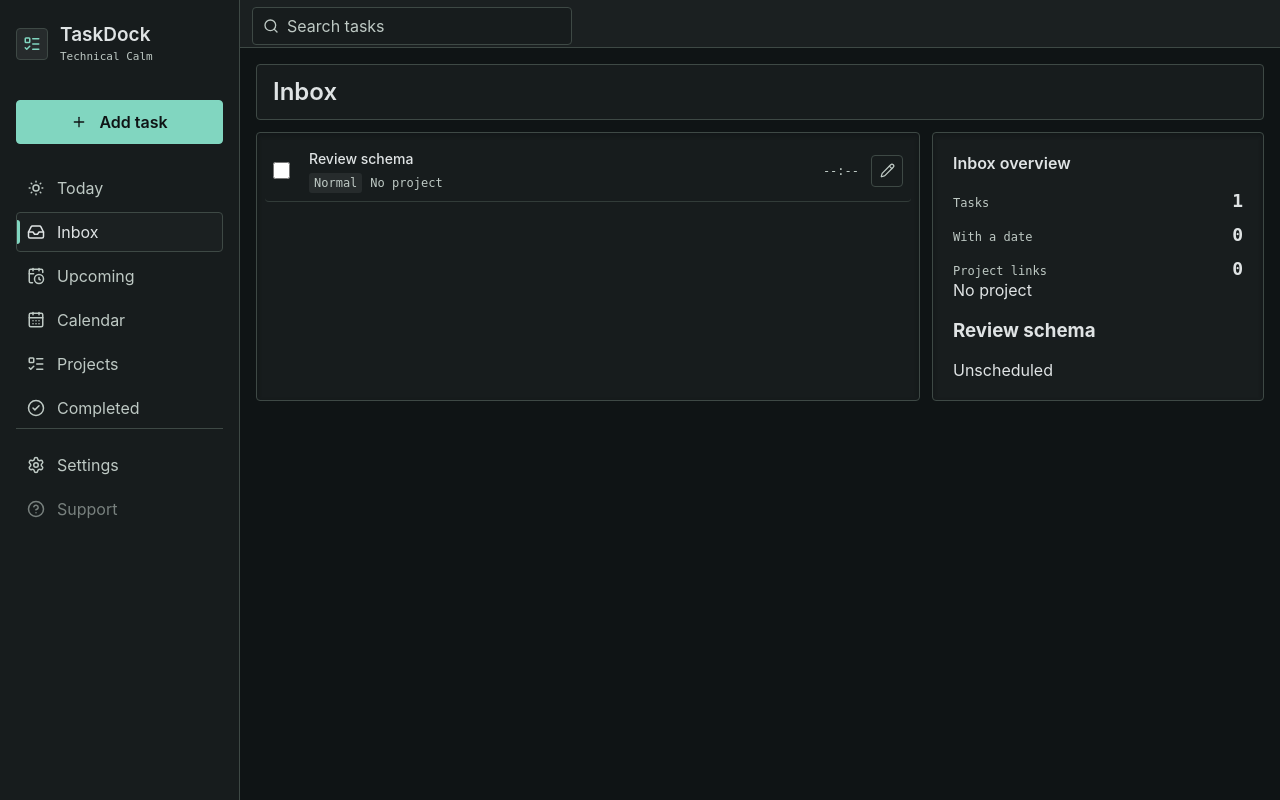
Test: edits an existing task and renders the refreshed result
The image size is (1280, 800).
Click the button named "Edit task Review schema" at {"x": 887, "y": 171}, box [871,155,903,187]
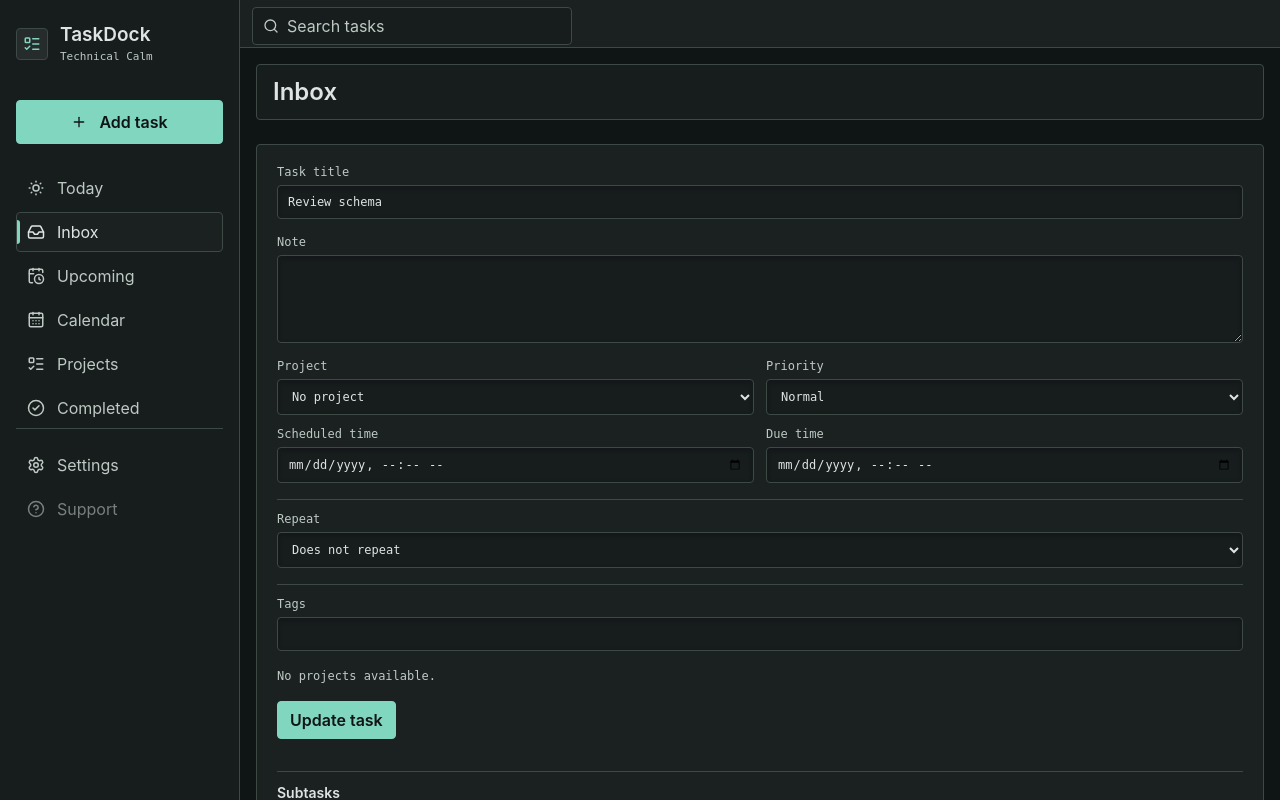
Replace the text in the field labelled "Task title" with "Review release" at {"x": 760, "y": 202}, box [277,185,1243,219]
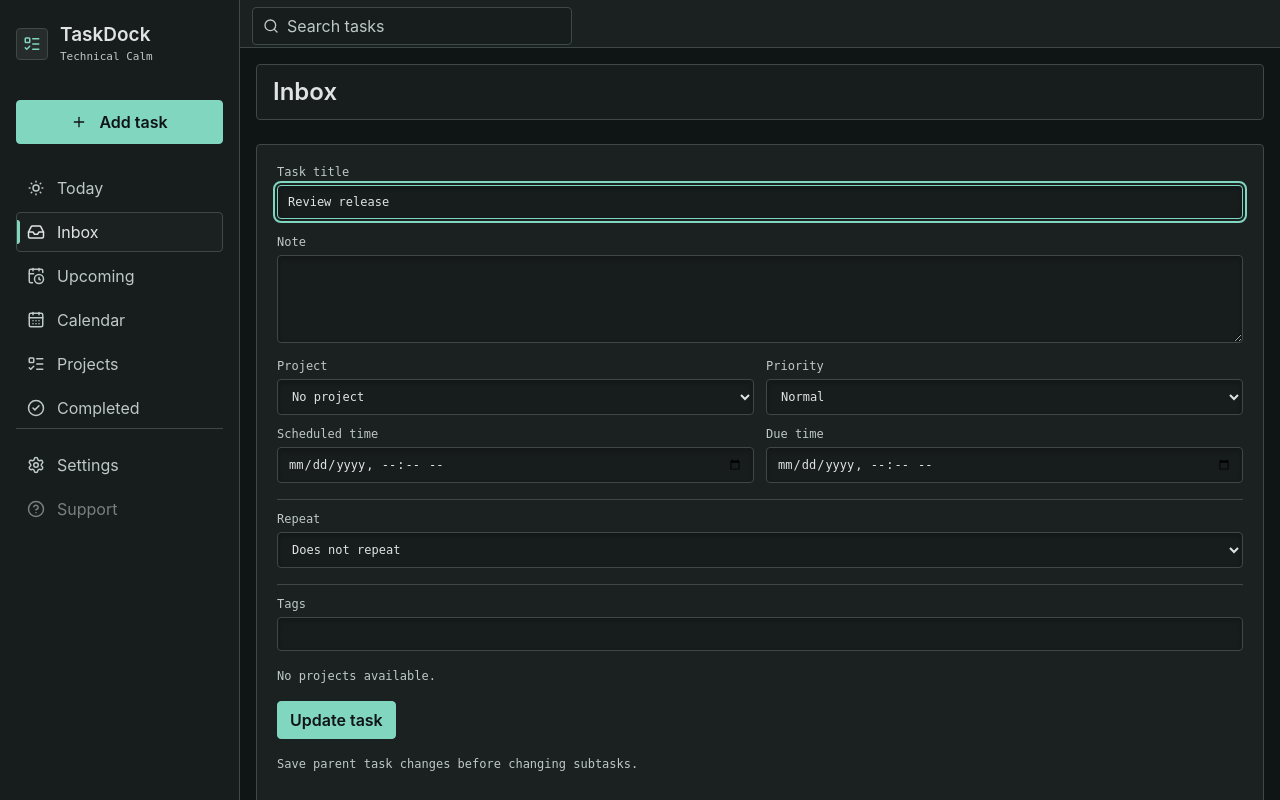
Type "Add migration result" into the text box labelled "Note" at {"x": 760, "y": 299}, box [277,255,1243,343]
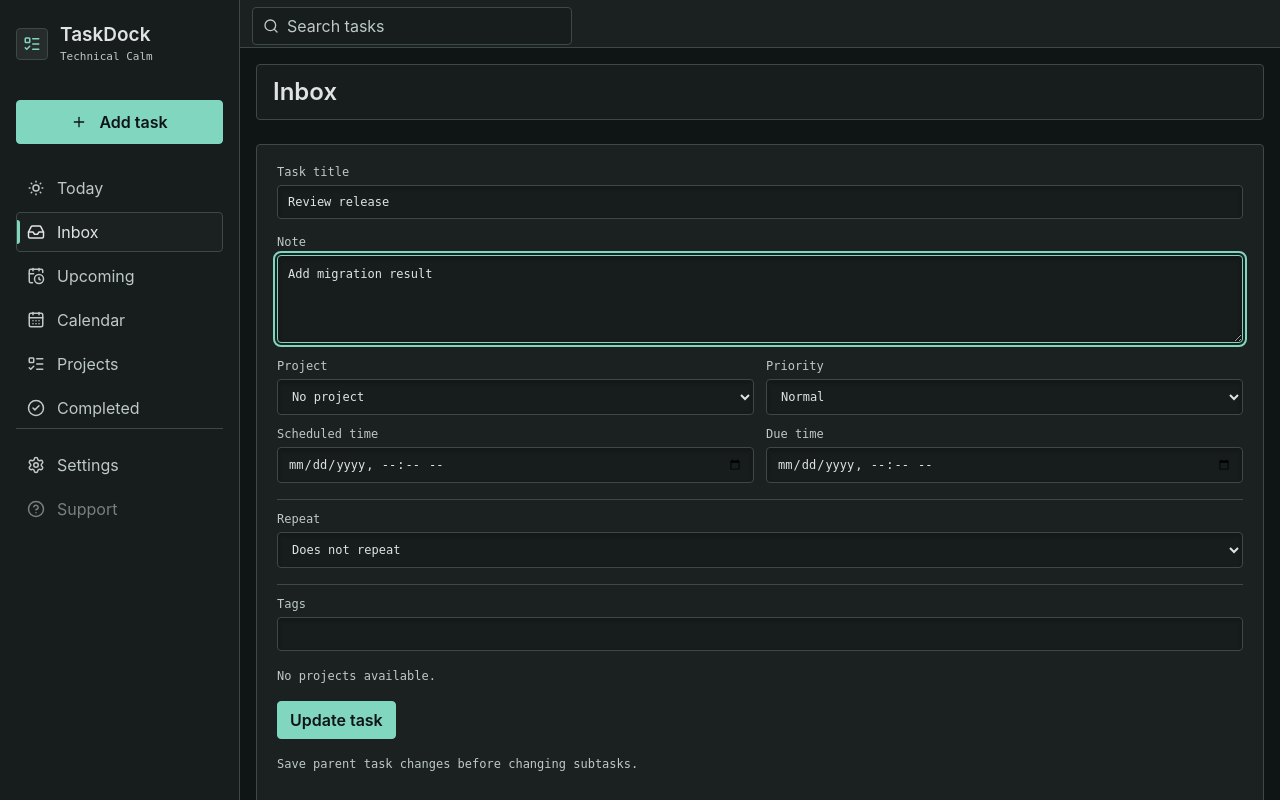
Click the button "Update task" at {"x": 336, "y": 720}, box [277,701,396,739]
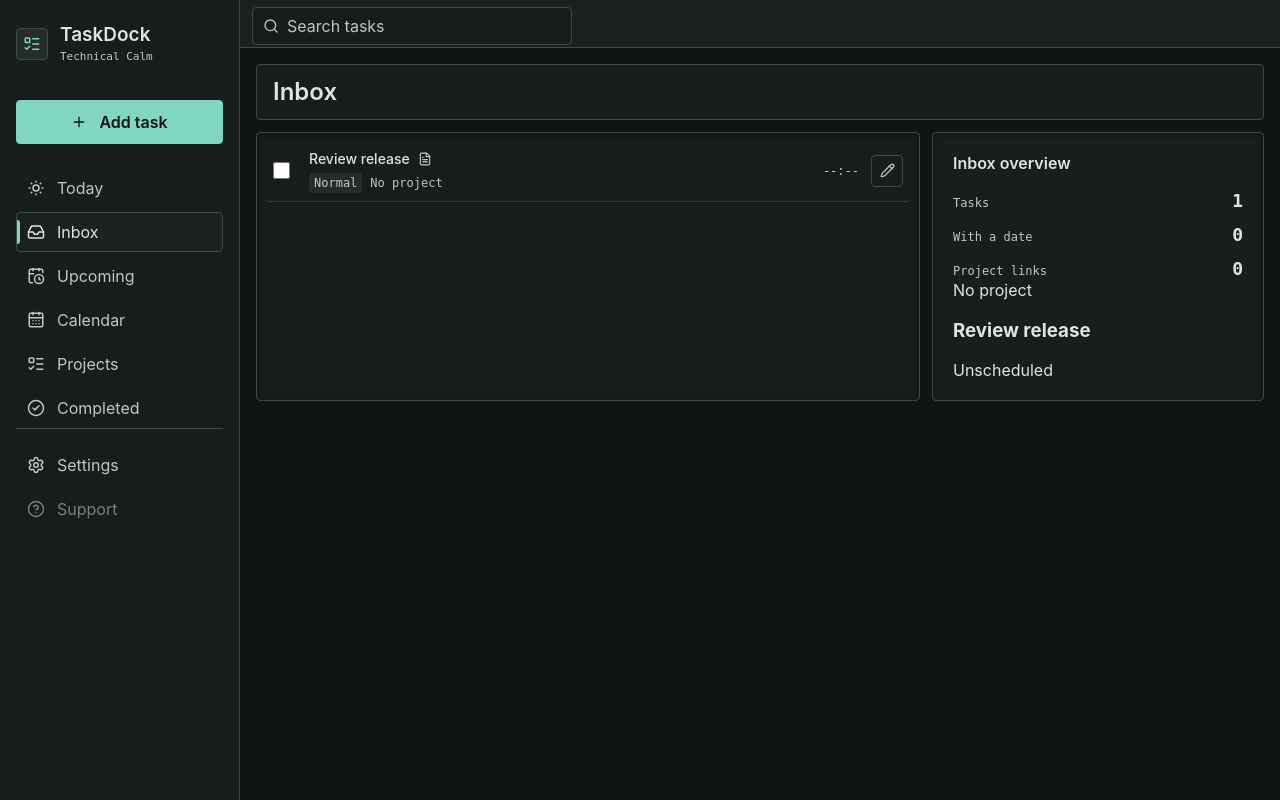
Result: the text "Review release" is shown at [309,149,410,169]
